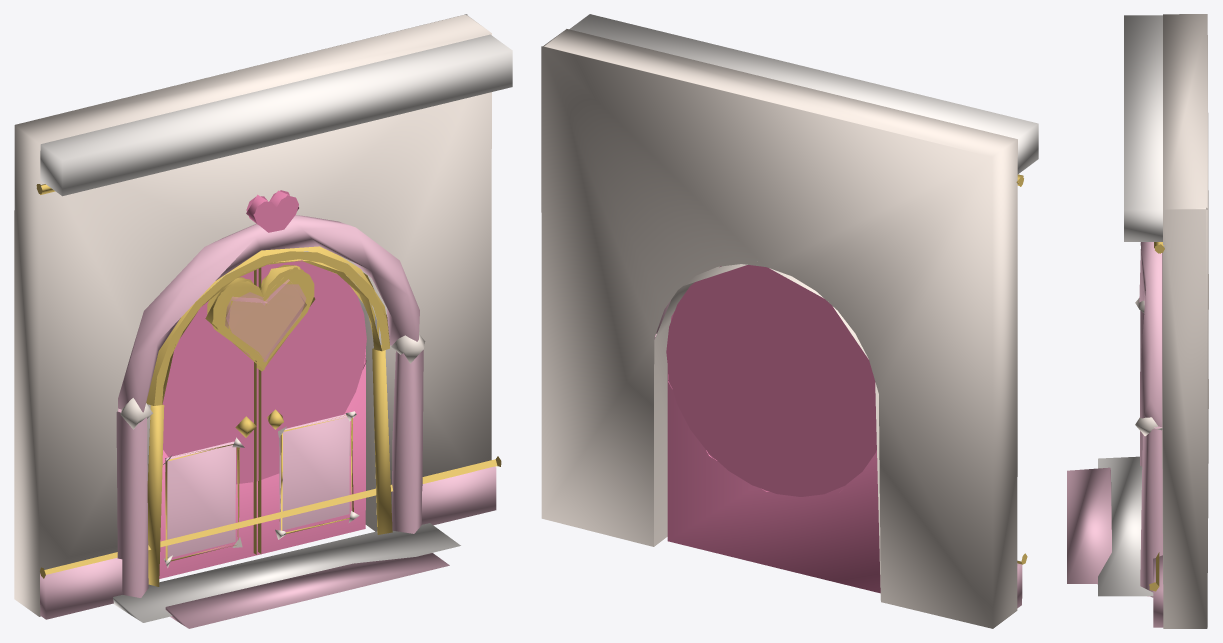
The model's file is lod_wall_door.glb.
3 views of the same model, side by side, from view 1: azimuth 30°, elevation 25°; view 2: azimuth 150°, elevation 25°; view 3: azimuth 270°, elevation 25° (orthographic). The views are drawn at different scales.
Visible parts, largest first — view 1: wall_door; view 2: wall_door; view 3: wall_door.
Part boxes in pixels (x1,y1,x2,y2): wall_door: [14, 14, 512, 628]; wall_door: [541, 14, 1038, 628]; wall_door: [1067, 14, 1208, 628].
Bounding box in the file's own units: 4 × 4 × 1.22.
